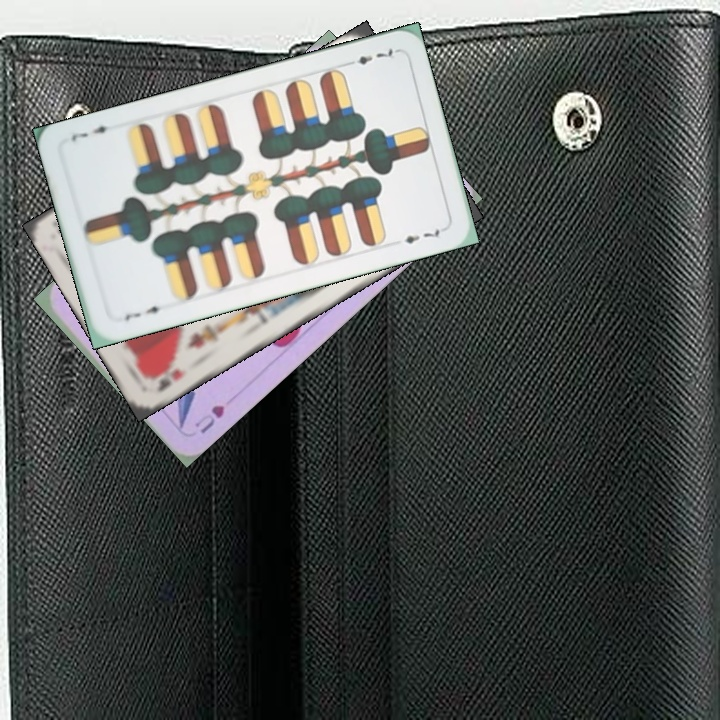E7: (341, 44, 399, 69), (120, 301, 169, 324)
HK: (153, 364, 189, 395)
HU: (190, 400, 228, 437)
